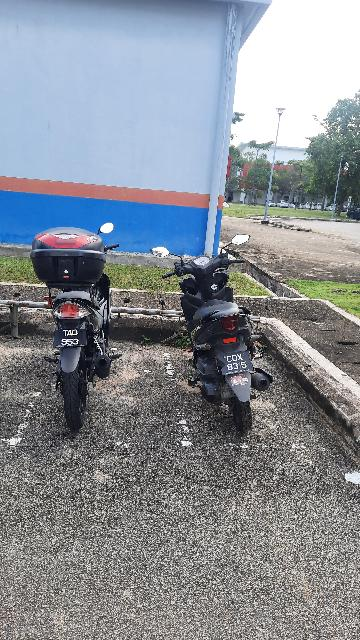License_Plate: (216, 351, 259, 378), (55, 327, 92, 351)
motorcycle: (150, 235, 275, 433), (32, 216, 124, 431)
